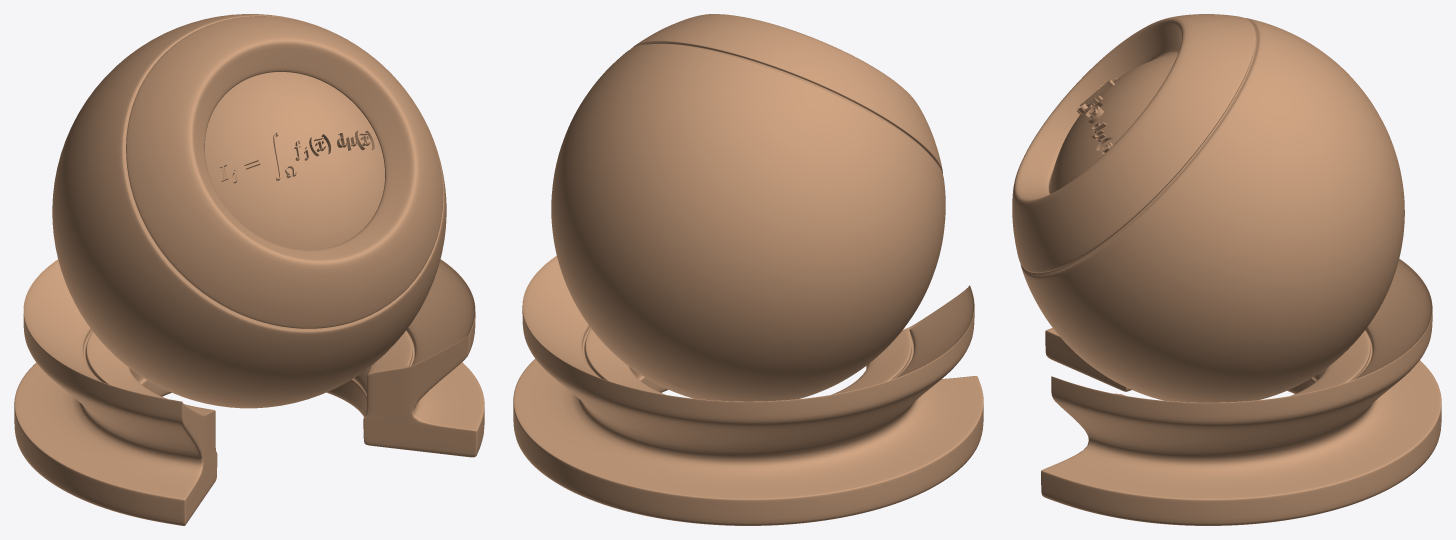
Rendered from TestObj.obj.
3 renders of one model, left to right at view 1: azimuth 30°, elevation 25°; view 2: azimuth 150°, elevation 25°; view 3: azimuth 270°, elevation 25°, orthographic.
Visible parts, largest first — view 1: OuterSphere_Untitled.002, ObjBase_Untitled.004, InnerSphere_Untitled, Equation_Untitled.008; view 2: OuterSphere_Untitled.002, ObjBase_Untitled.004; view 3: OuterSphere_Untitled.002, ObjBase_Untitled.004, InnerSphere_Untitled, Equation_Untitled.008.
Part boxes in pixels (x1,y1,x2,y2): OuterSphere_Untitled.002: (52, 14, 446, 408); ObjBase_Untitled.004: (14, 259, 484, 525); InnerSphere_Untitled: (204, 72, 384, 250); Equation_Untitled.008: (219, 130, 374, 183); OuterSphere_Untitled.002: (551, 14, 945, 401); ObjBase_Untitled.004: (513, 255, 983, 525); OuterSphere_Untitled.002: (1012, 14, 1404, 402); ObjBase_Untitled.004: (1041, 259, 1441, 525); InnerSphere_Untitled: (1049, 53, 1177, 193); Equation_Untitled.008: (1077, 78, 1117, 154).
Size of the model in its own units: 5.76 by 5.41 by 5.3.
